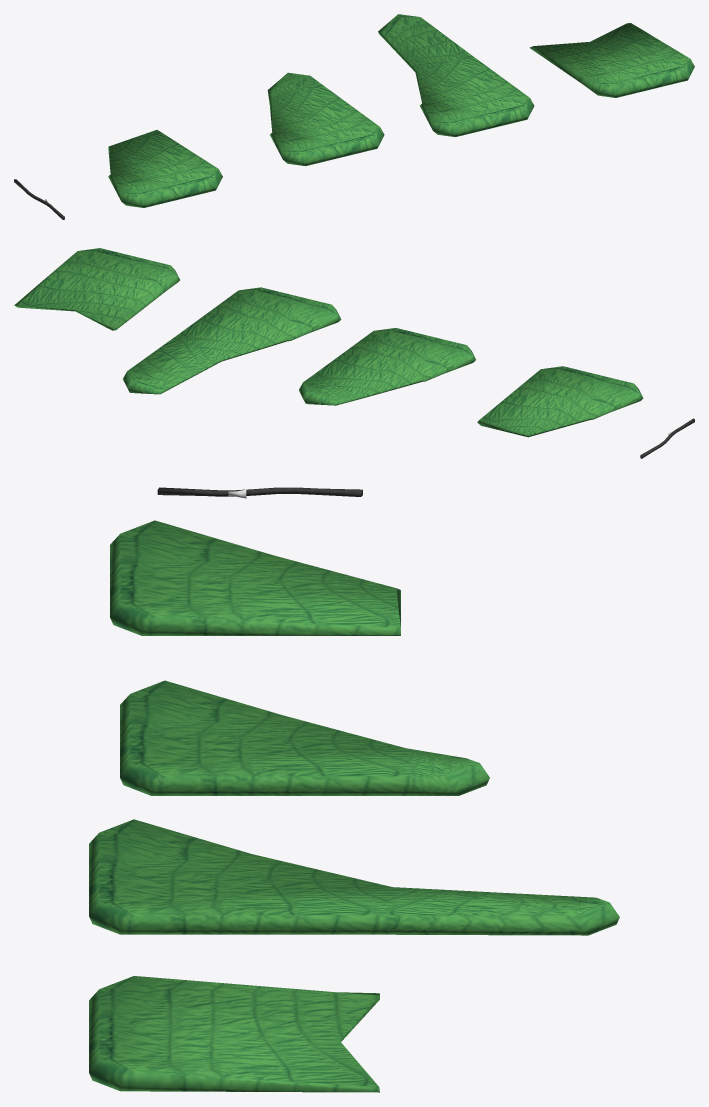
The model's file is DamagedSleepingbags_Green.obj.
3 renders of one model, top to bottom at view 1: azimuth 30°, elevation 25°; view 2: azimuth 150°, elevation 25°; view 3: azimuth 270°, elevation 25°, orthographic. The views are drawn at different scales.
Visible parts, largest first — view 1: Cube.025_Material.017, Cube.024_Material.017, Cube.026_Material.017, Cube.023_Material.017; view 2: Cube.025_Material.017, Cube.024_Material.017, Cube.026_Material.017, Cube.023_Material.017; view 3: Cube.025_Material.017, Cube.026_Material.017, Cube.024_Material.017, Cube.023_Material.017, Plane.005_Material.018.
Boxes of the visible parts, bbox=[...] form: Cube.025_Material.017: bbox=[378, 14, 534, 136]; Cube.024_Material.017: bbox=[267, 72, 384, 166]; Cube.026_Material.017: bbox=[529, 23, 694, 97]; Cube.023_Material.017: bbox=[108, 130, 222, 207]; Cube.025_Material.017: bbox=[123, 287, 341, 394]; Cube.024_Material.017: bbox=[299, 328, 475, 405]; Cube.026_Material.017: bbox=[14, 248, 179, 330]; Cube.023_Material.017: bbox=[477, 366, 643, 437]; Cube.025_Material.017: bbox=[89, 819, 619, 935]; Cube.026_Material.017: bbox=[89, 976, 379, 1092]; Cube.024_Material.017: bbox=[120, 680, 489, 795]; Cube.023_Material.017: bbox=[110, 520, 400, 635]; Plane.005_Material.018: bbox=[157, 487, 362, 496].
Size of the model in its own units: 4.8 by 0.1058 by 1.77.
